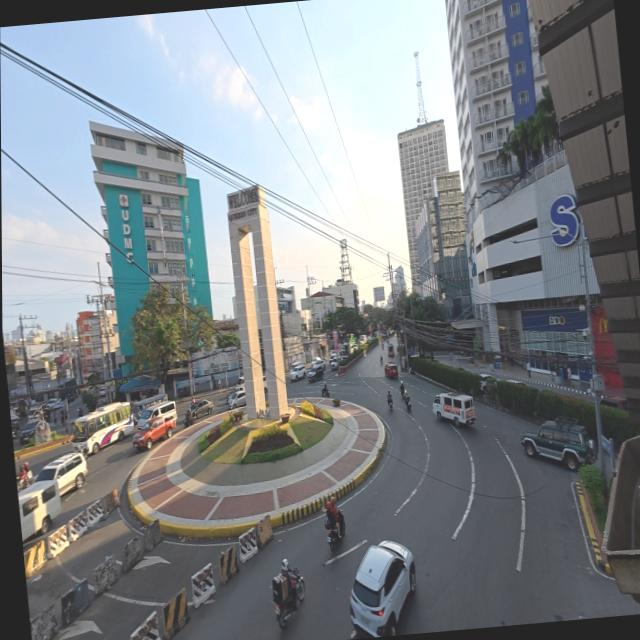Jeepneys: (132, 393, 168, 418), (388, 345, 395, 358)
bus: (73, 402, 135, 454)
car: (350, 541, 416, 637), (522, 417, 596, 470), (36, 452, 88, 495), (19, 419, 39, 444), (189, 399, 214, 419), (601, 396, 627, 410), (228, 389, 246, 409), (479, 373, 496, 392), (290, 364, 306, 381), (308, 365, 324, 382), (385, 363, 399, 378), (506, 378, 529, 387), (312, 358, 326, 370), (46, 398, 58, 410), (329, 358, 339, 370), (330, 354, 338, 364), (263, 375, 267, 392)
motorcycle: (275, 568, 305, 628), (328, 510, 346, 550), (17, 475, 34, 493), (184, 415, 195, 428), (405, 395, 411, 412), (387, 398, 393, 411), (322, 388, 330, 397), (401, 389, 405, 400), (379, 354, 382, 364)
trucks: (133, 417, 176, 449)
vans: (18, 481, 61, 541), (433, 393, 475, 424), (138, 401, 176, 430), (28, 407, 44, 420)
